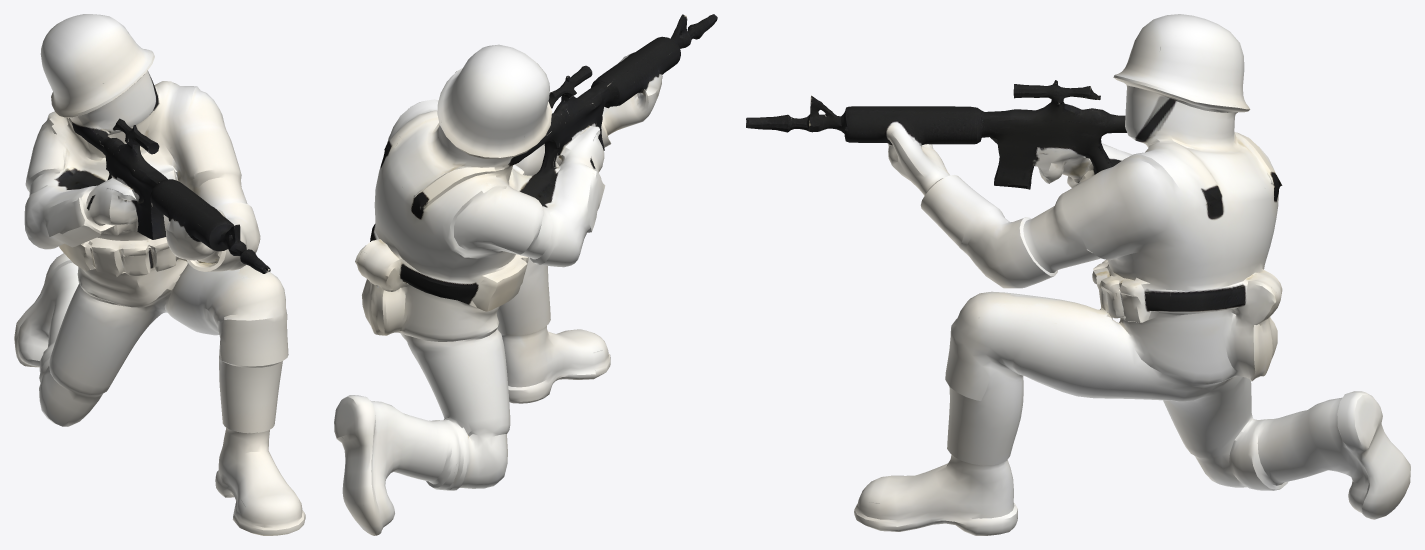
File: Meshy_AI_a_stylized_low_poly_t_0428225232_texture.fbx
3 views of the same model, side by side, from view 1: azimuth 30°, elevation 25°; view 2: azimuth 150°, elevation 25°; view 3: azimuth 270°, elevation 25° (orthographic). The views are drawn at different scales.
Visible parts, largest first — view 1: Mesh0; view 2: Mesh0; view 3: Mesh0.
Part boxes in pixels (box(x1,y1,x2,y2)): Mesh0: box(14, 14, 305, 535); Mesh0: box(334, 14, 717, 535); Mesh0: box(746, 14, 1410, 535).
Bounding box in the file's own units: 70.37 × 150 × 191.
1 material, 1 textured.
